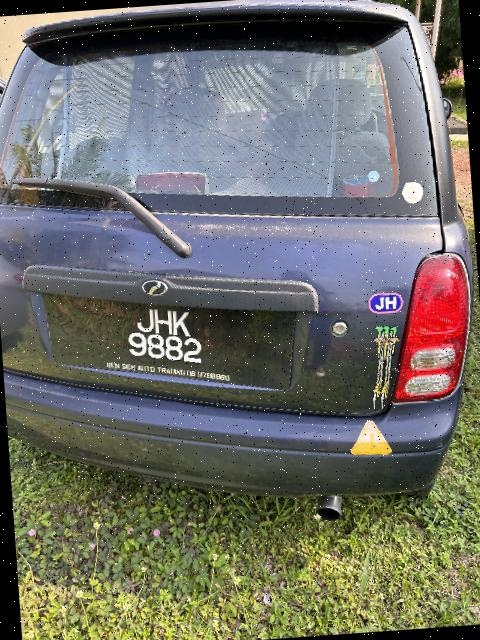License_Plate: (49, 283, 290, 408)
car: (1, 1, 480, 543)
